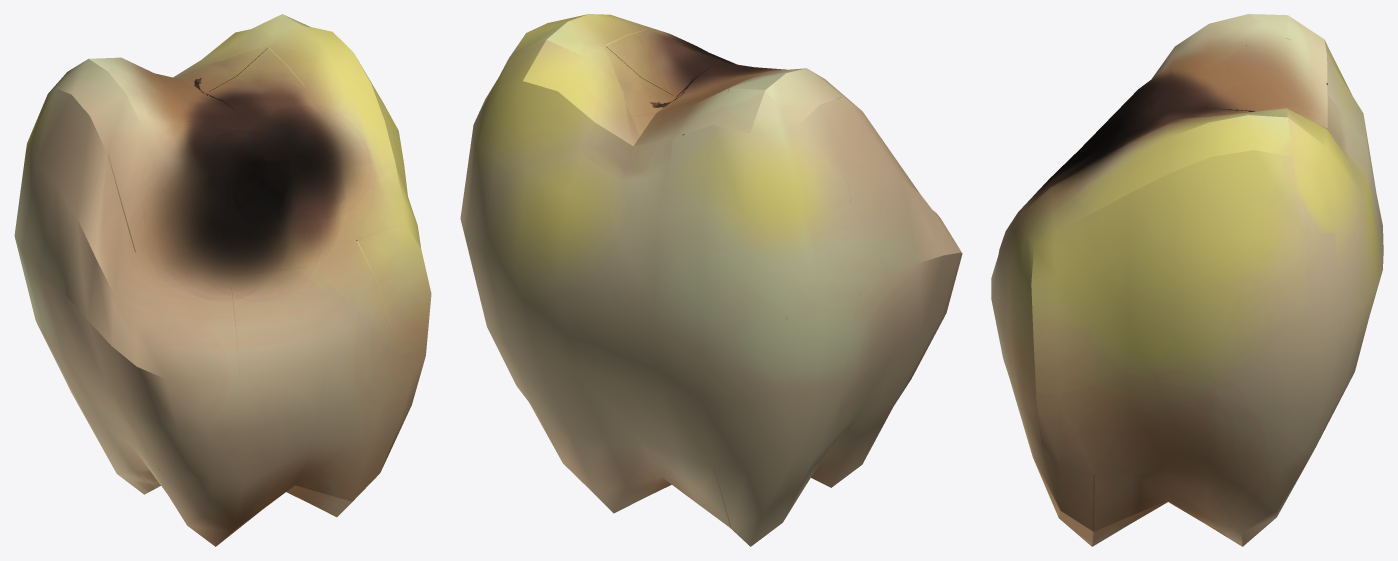
Rendered from decay_Tooth.fbx.
3 renders of one model, left to right at view 1: azimuth 30°, elevation 25°; view 2: azimuth 150°, elevation 25°; view 3: azimuth 270°, elevation 25°, orthographic. The views are drawn at different scales.
Visible parts, largest first — view 1: Cube; view 2: Cube; view 3: Cube.
Part boxes in pixels (x1,y1,x2,y2): Cube: (14,14,431,546); Cube: (460,14,962,546); Cube: (991,14,1383,546).
Size of the model in its own units: 506 by 586 by 460.
